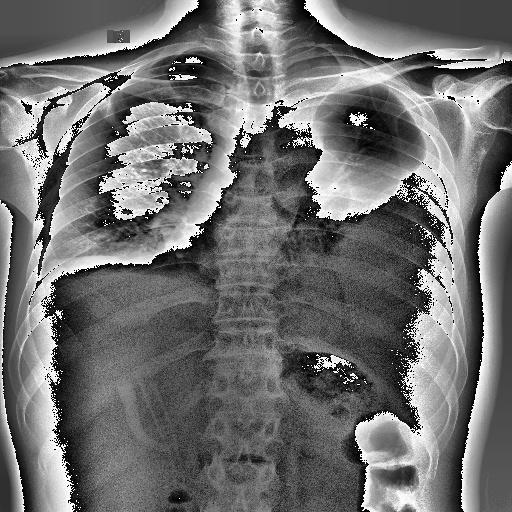10- Pleural effusion: (266, 58, 462, 299), (280, 48, 456, 292), (297, 138, 447, 285), (32, 252, 60, 290)
11- Pleural thickening: (272, 58, 382, 136), (32, 252, 60, 290)
13- Pulmonary fibrosis: (91, 90, 127, 134), (100, 92, 130, 138)
7- Lung Opacity: (293, 84, 425, 256), (300, 146, 394, 260), (91, 90, 127, 134), (96, 98, 128, 136)
9- Other lesion: (47, 253, 121, 278)
